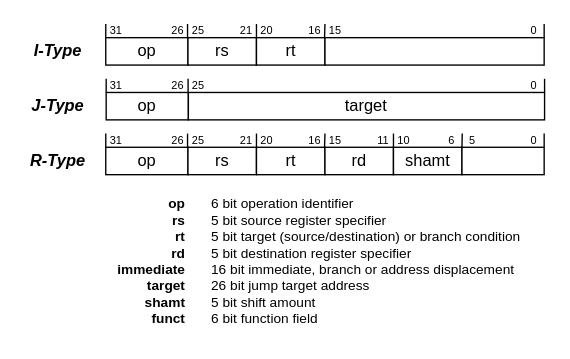
The diagram is 570 pixels wide and 359 high, and some of its shapes have lost their labels. The shapes that lost their labels are listed below. From the top down, each one's centre as x and y in pixels, then its label:
point (434, 50): immediate
point (502, 160): funct
